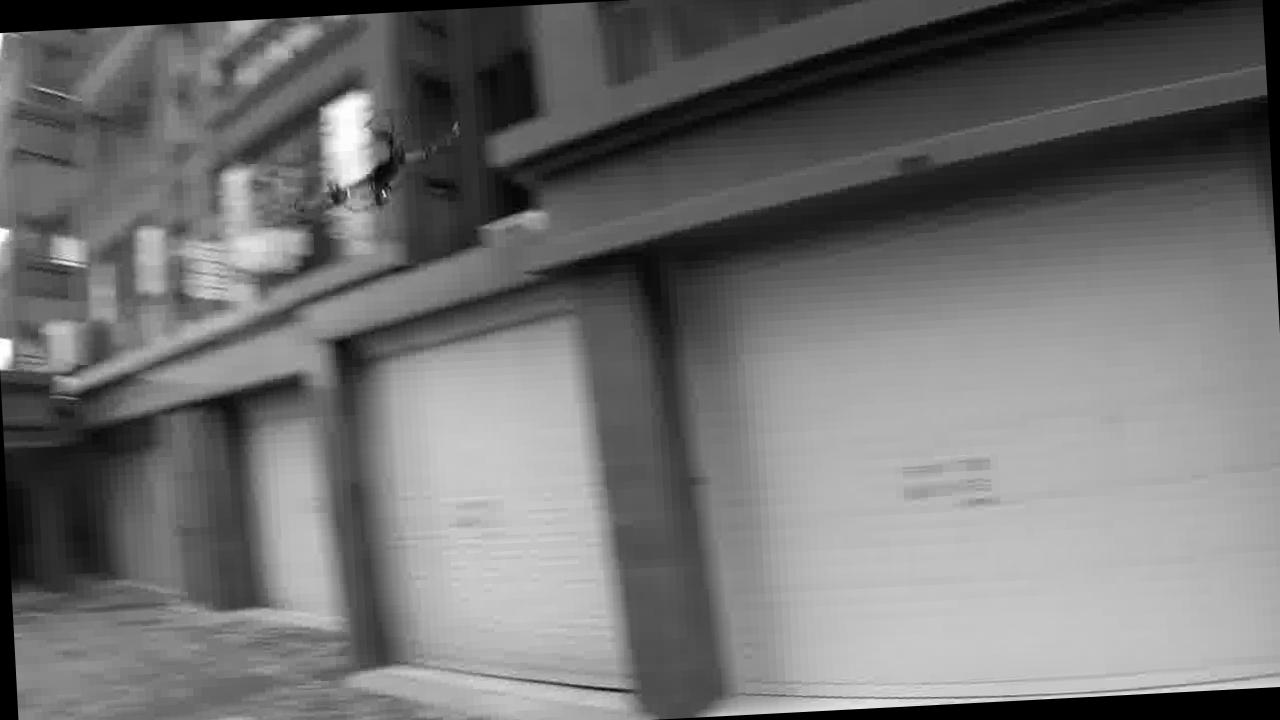drone: (268, 112, 482, 223)
